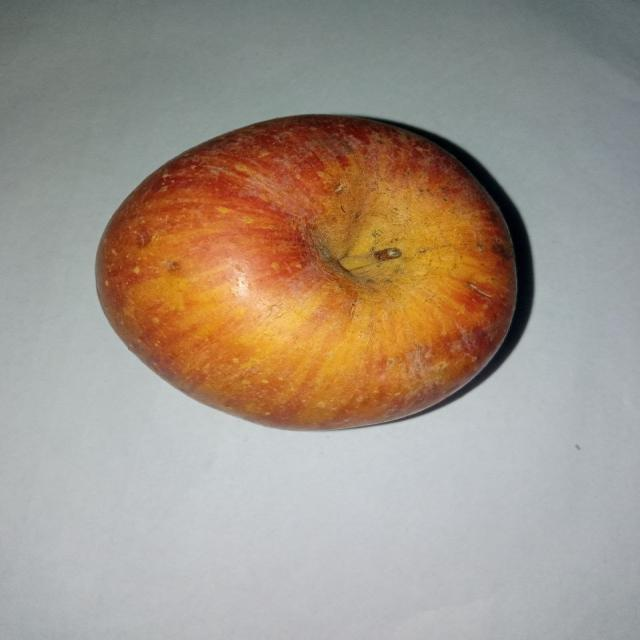fresh_apple: (94, 114, 518, 428)
